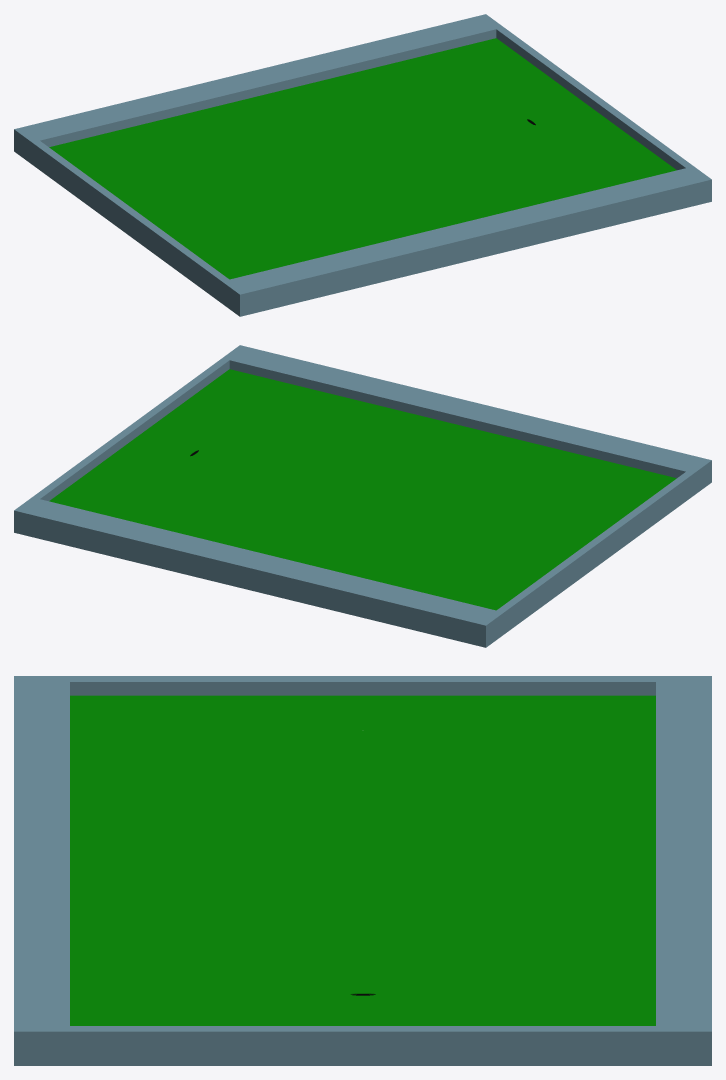
Rendered from flat.glb.
3 views of the same model, one above another, from view 1: azimuth 30°, elevation 25°; view 2: azimuth 150°, elevation 25°; view 3: azimuth 270°, elevation 25° (orthographic). The views are drawn at different scales.
Parts seen in each view (by area): view 1: Grass, Border; view 2: Grass, Border; view 3: Grass, Border.
Boxes of the visible parts, left/top/right/bottom form: Grass: left=49, top=38, right=676, bottom=279; Border: left=14, top=14, right=711, bottom=316; Grass: left=49, top=369, right=676, bottom=610; Border: left=14, top=345, right=711, bottom=647; Grass: left=70, top=695, right=655, bottom=1025; Border: left=14, top=676, right=711, bottom=1065.
Bounding box in the file's own units: 42.09 × 1.89 × 34.91.
